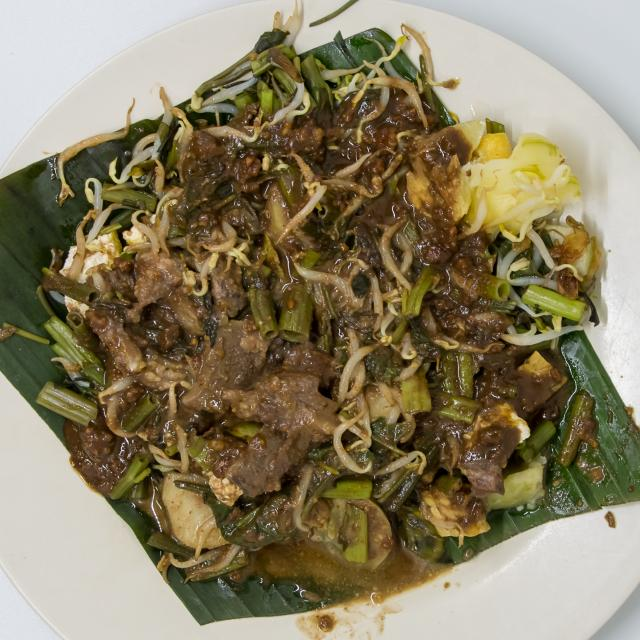Rujak-Cingur: (58, 10, 598, 591)
